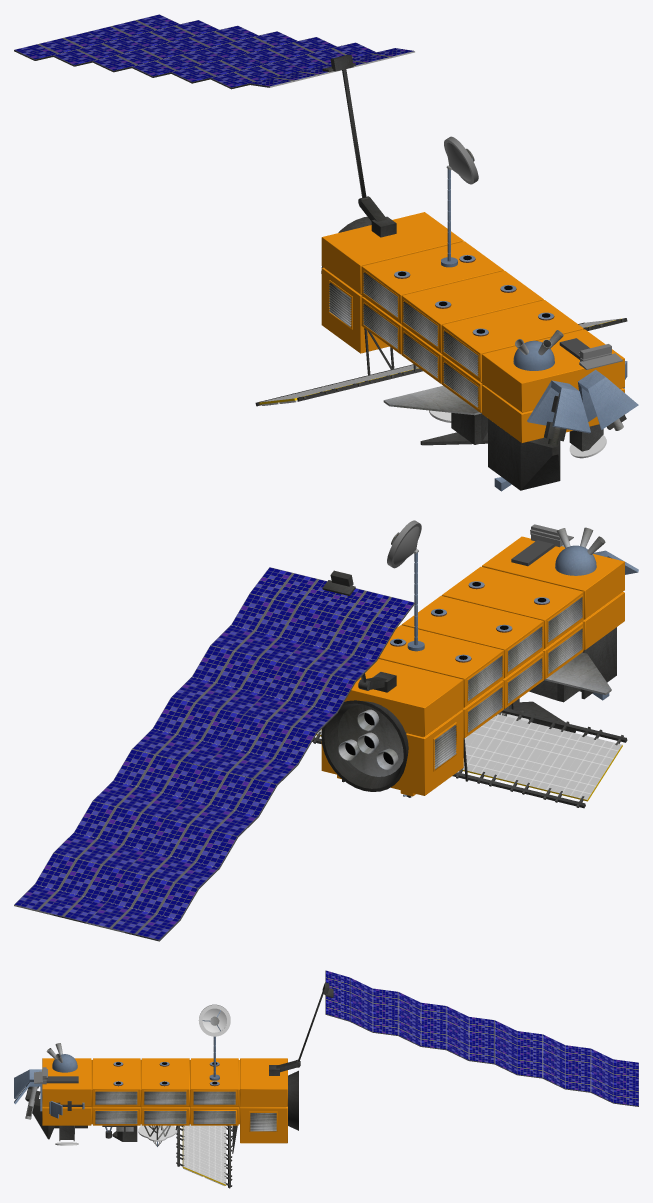
The model's file is envisat.glb.
3 views of the same model, one above another, from view 1: azimuth 30°, elevation 25°; view 2: azimuth 150°, elevation 25°; view 3: azimuth 270°, elevation 25° (orthographic). The views are drawn at different scales.
Parts seen in each view (by area): view 1: Envisat_High; view 2: Envisat_High; view 3: Envisat_High.
Part boxes in pixels (x1,y1,x2,y2): Envisat_High: (14,14,638,491); Envisat_High: (14,520,638,941); Envisat_High: (14,970,638,1188).
Bounding box in the file's own units: 1.93 × 1.5 × 5.2.
2 materials, 1 textured.
